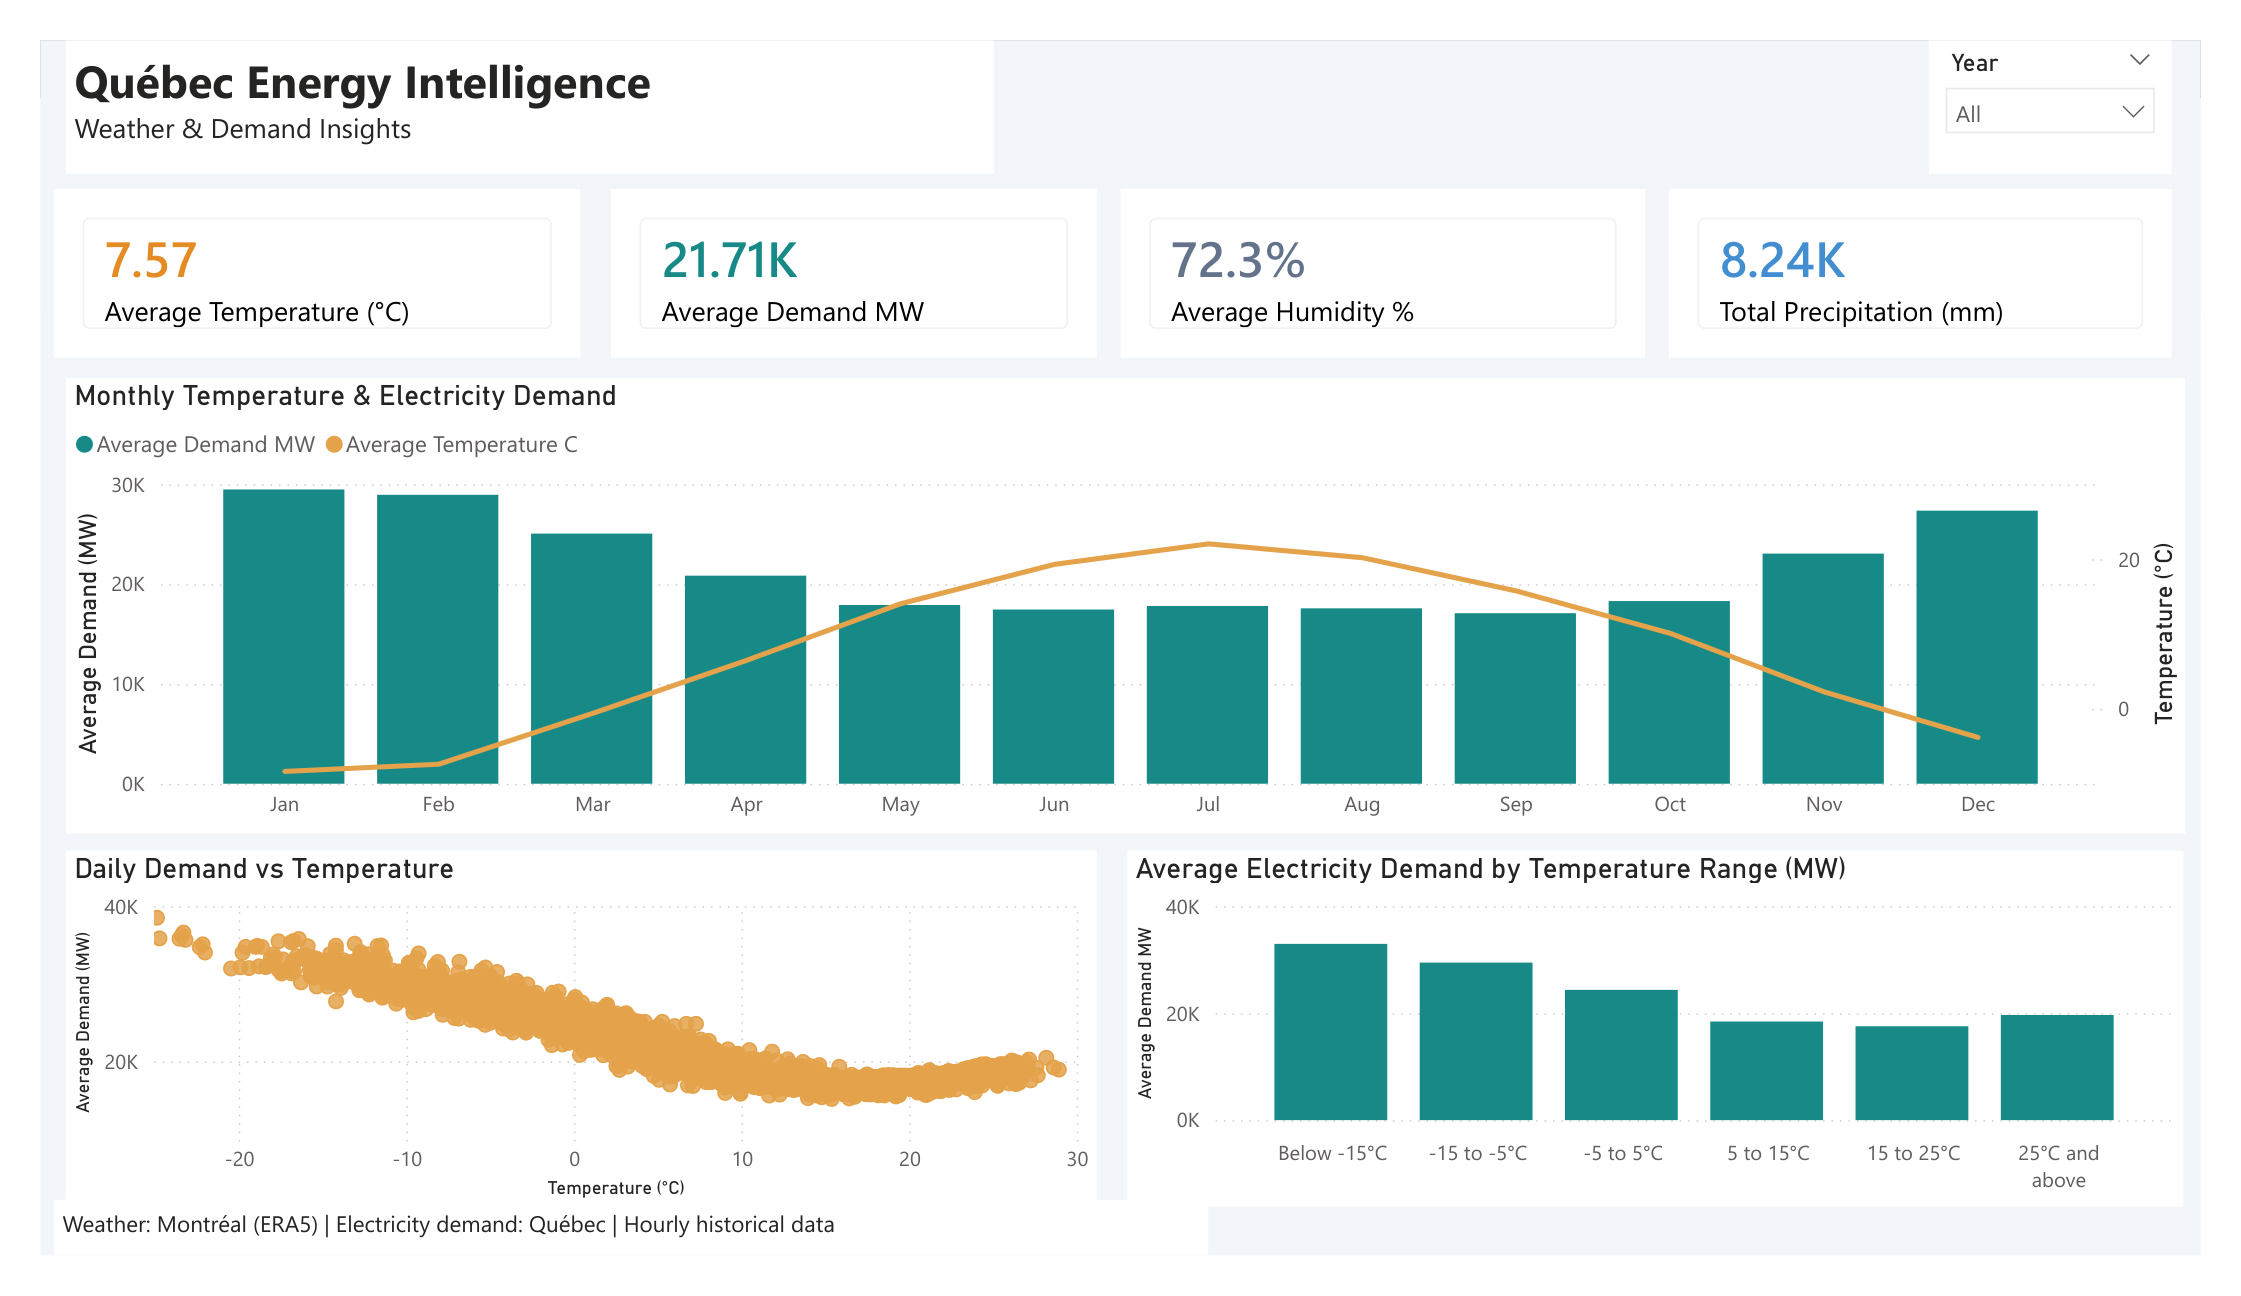

What the dashboard file says about the page in this screenshot:
{"tool":"powerbi","page":{"name":"Weather & Demand Insights","canvas":[1280,720],"ordinal":2},"visuals":[{"type":"textbox","box":[15,0,550,78.8],"z":0},{"type":"slicer","fields":{"Values":["dw vw_EnergyHourlyAnalysis.CalendarYear"]},"box":[1118.8,0,143.8,78.8],"z":1000},{"type":"cardVisual","fields":{"Data":["_Measures.Average Temperature C"]},"box":[7.5,87.5,312.5,100],"z":2000},{"type":"cardVisual","fields":{"Data":["_Measures.Average Demand MW"]},"box":[337.5,87.5,288.8,100],"z":3000},{"type":"cardVisual","fields":{"Data":["_Measures.Average Humidity %"]},"box":[640,87.5,311.2,100],"z":4000},{"type":"cardVisual","fields":{"Data":["_Measures.Total Precipitation MM"]},"box":[965,87.5,297.5,100],"z":5000},{"type":"lineStackedColumnComboChart","title":"Monthly Temperature & Electricity Demand","fields":{"Category":["dw vw_EnergyHourlyAnalysis.MonthShort"],"Y":["_Measures.Average Demand MW"],"Y2":["_Measures.Average Temperature C"]},"box":[15,200,1256.2,270],"z":6000},{"type":"scatterChart","title":"\tDaily Demand vs Temperature","fields":{"X":["_Measures.Average Temperature C"],"Y":["_Measures.Average Demand MW"],"Category":["dw vw_EnergyHourlyAnalysis.FullDate"]},"box":[15,480,611.2,211.2],"z":7000},{"type":"clusteredColumnChart","title":"Average Electricity Demand by Temperature Range (MW)","fields":{"Category":["dw vw_EnergyHourlyAnalysis.Temperature Band"],"Y":["_Measures.Average Demand MW"]},"box":[643.8,480,626.2,211.2],"z":8000},{"type":"textbox","box":[7.9,687.3,684.6,32.7],"z":9000}]}

Visuals, with their boxes in screenshot pixels (x1, y1, x2, y2), scaled from the page's 1280x720 canvas onto the 2241x1296 screenshot:
textbox: crop(26, 0, 989, 142)
slicer - dw vw_EnergyHourlyAnalysis.CalendarYear: crop(1959, 0, 2211, 142)
cardVisual - _Measures.Average Temperature C: crop(13, 158, 560, 338)
cardVisual - _Measures.Average Demand MW: crop(591, 158, 1097, 338)
cardVisual - _Measures.Average Humidity %: crop(1120, 158, 1665, 338)
cardVisual - _Measures.Total Precipitation MM: crop(1690, 158, 2210, 338)
"Monthly Temperature & Electricity Demand" lineStackedColumnComboChart: crop(26, 360, 2226, 846)
"	Daily Demand vs Temperature" scatterChart: crop(26, 864, 1096, 1244)
"Average Electricity Demand by Temperature Range (MW)" clusteredColumnChart: crop(1127, 864, 2223, 1244)
textbox: crop(14, 1237, 1212, 1295)
